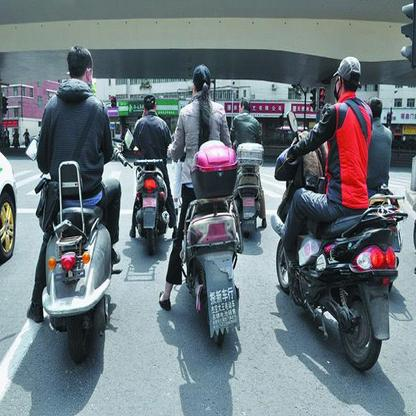target: (269, 56, 408, 372), (26, 43, 126, 365), (159, 62, 246, 348), (123, 91, 179, 259), (230, 95, 271, 240)
